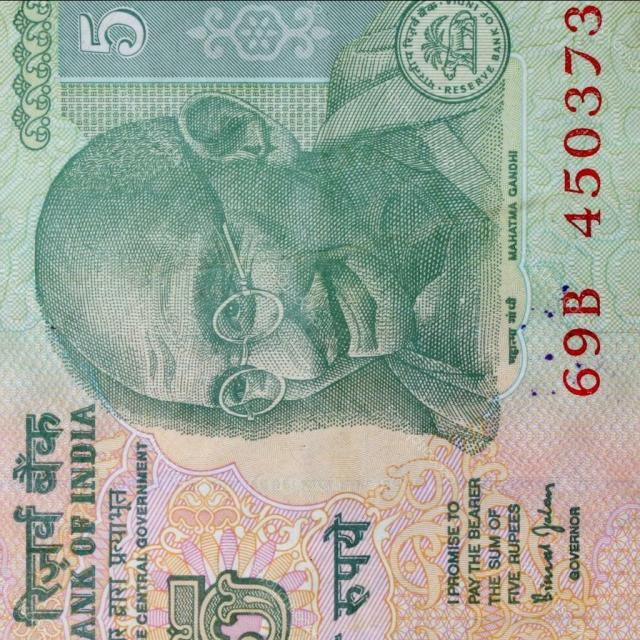5IndianRupees: (4, 6, 624, 636)
